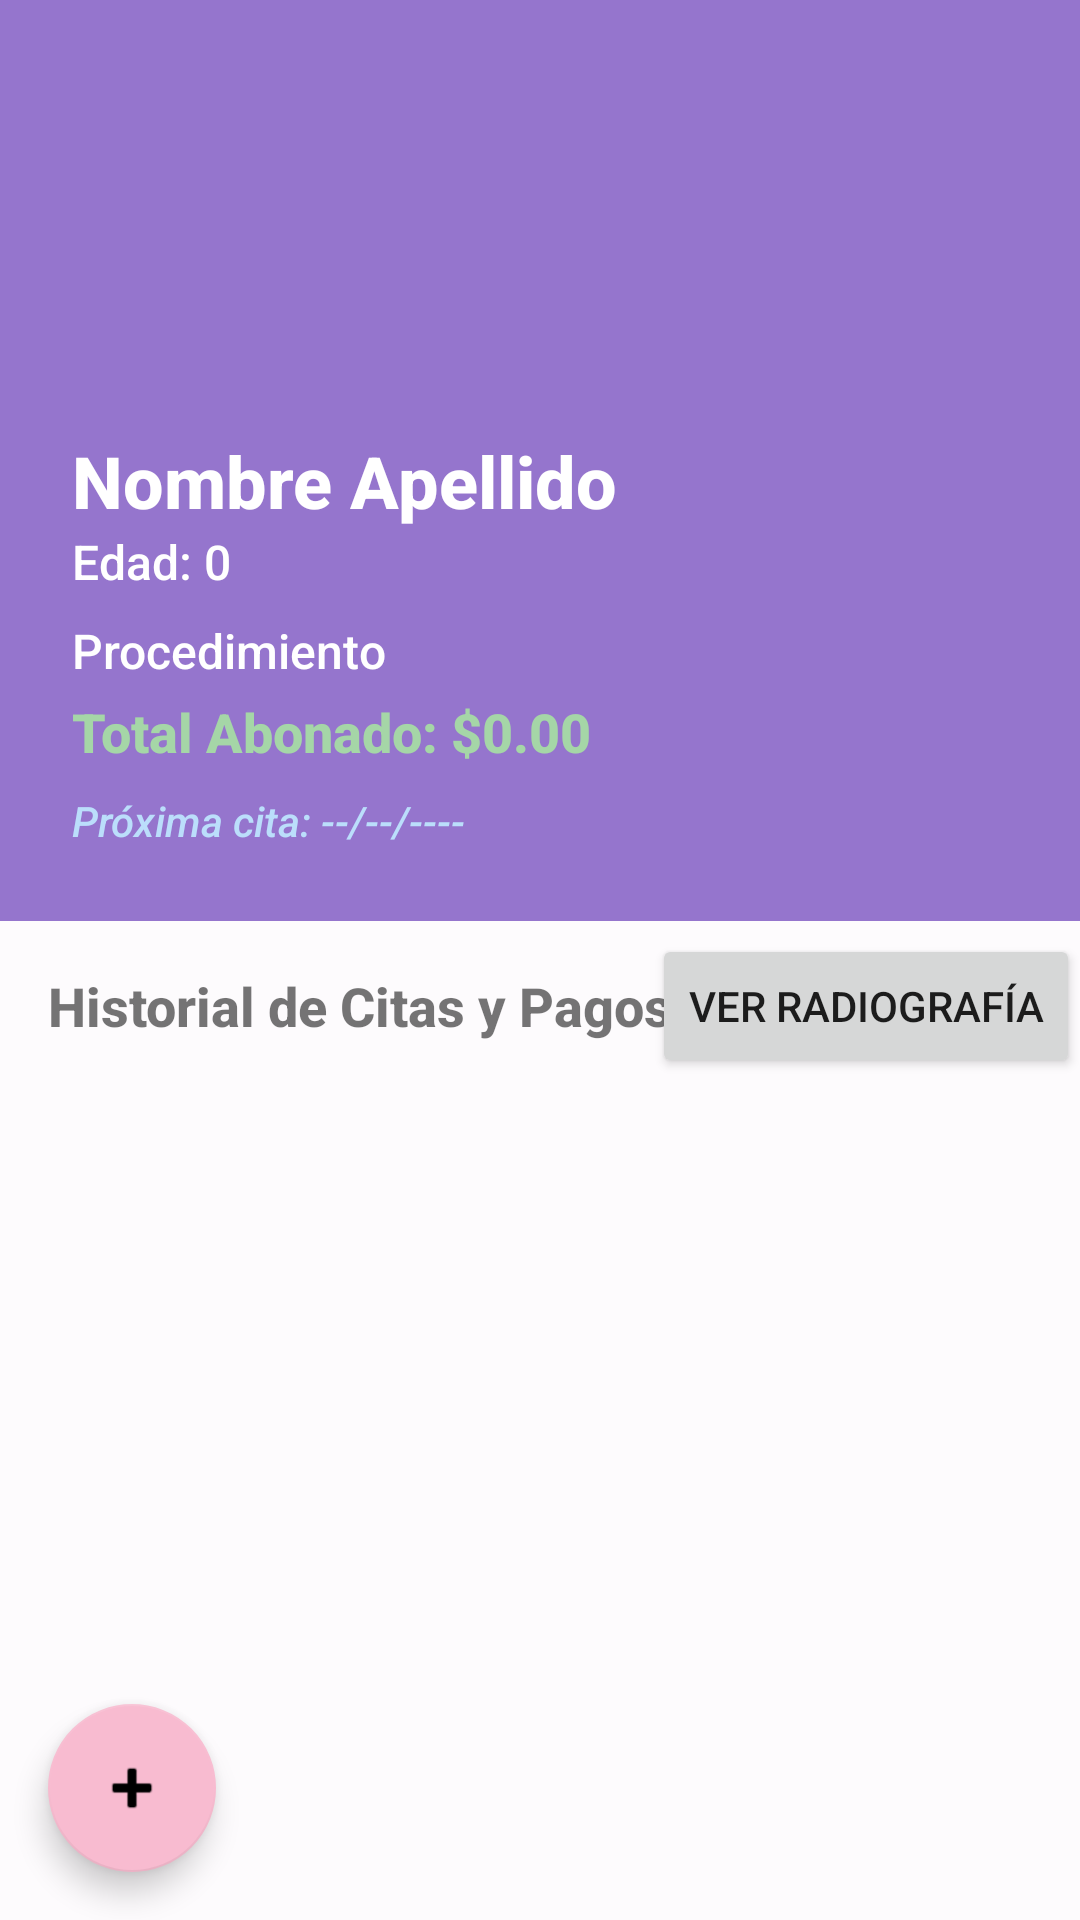

Icons on this 1080*1920 Android screen, each with the point to tap as (x=x, y=y):
add: (x=132, y=1788)
